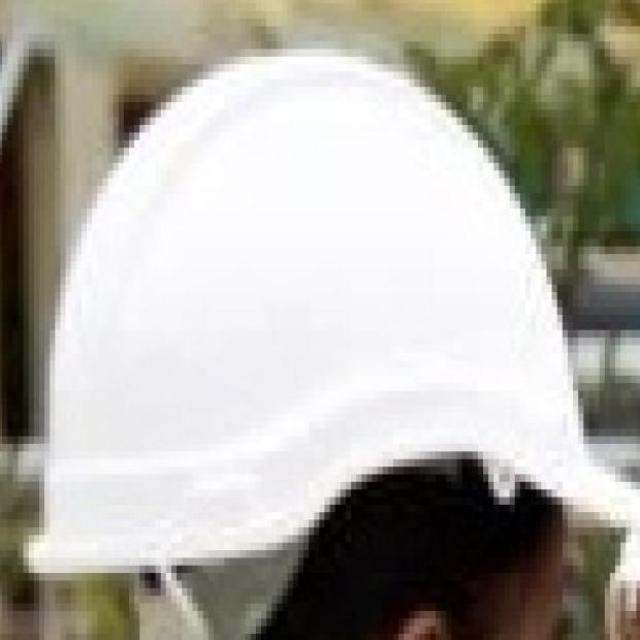white helmet: (35, 44, 632, 567)
